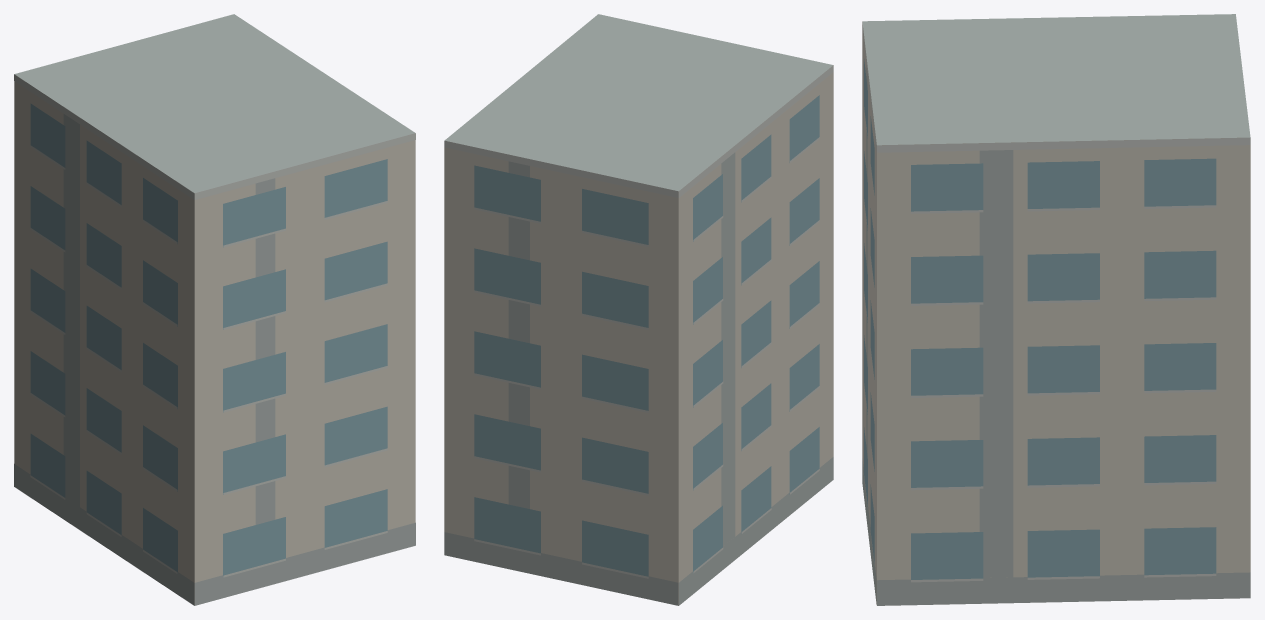
The model's file is survey-upis-32706252.glb.
The picture shows the model from 3 angles, left to right: view 1: azimuth 30°, elevation 25°; view 2: azimuth 150°, elevation 25°; view 3: azimuth 270°, elevation 25°; orthographic projection. The views are drawn at different scales.
Visible parts, largest first — view 1: survey-upis-32706252.tmp; view 2: survey-upis-32706252.tmp; view 3: survey-upis-32706252.tmp.
Part boxes in pixels (bbox=[...]): survey-upis-32706252.tmp: bbox=[14, 14, 415, 605]; survey-upis-32706252.tmp: bbox=[444, 14, 833, 605]; survey-upis-32706252.tmp: bbox=[862, 14, 1250, 605].
Size of the model in its own units: 9.08 by 14.85 by 11.35.
